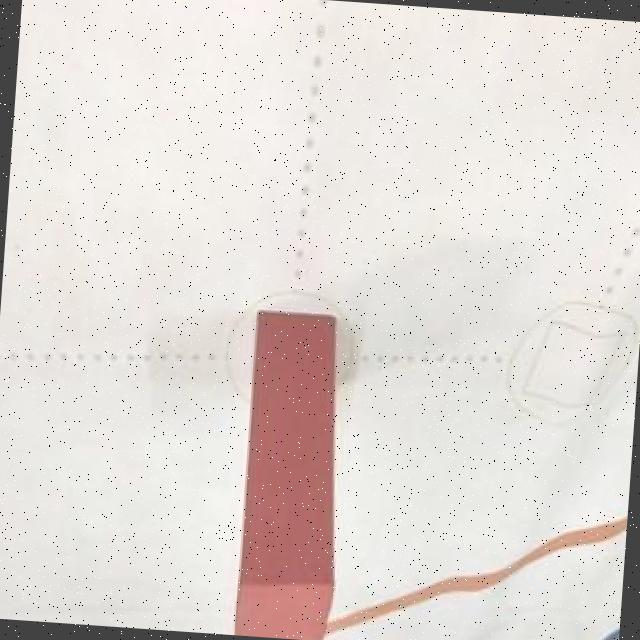redbox: (232, 309, 356, 639)
